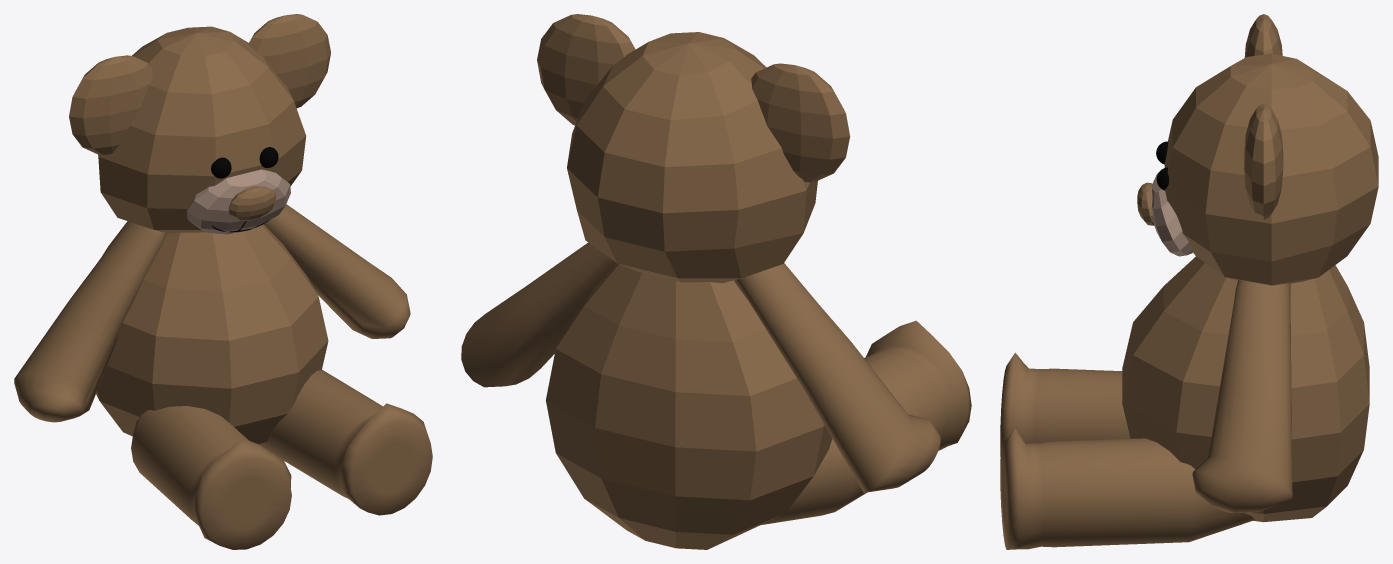
File: FBX_Teddy_Bear.fbx
3 views of the same model, side by side, from view 1: azimuth 30°, elevation 25°; view 2: azimuth 150°, elevation 25°; view 3: azimuth 270°, elevation 25° (orthographic). The views are drawn at different scales.
Visible parts, largest first — view 1: TeddyBear; view 2: TeddyBear; view 3: TeddyBear.
Boxes of the visible parts, x1,y1,x2,y2 form: TeddyBear: (14, 14, 432, 549); TeddyBear: (461, 14, 971, 549); TeddyBear: (1000, 14, 1378, 549).
Bounding box in the file's own units: 13.67 × 14.17 × 10.91.
